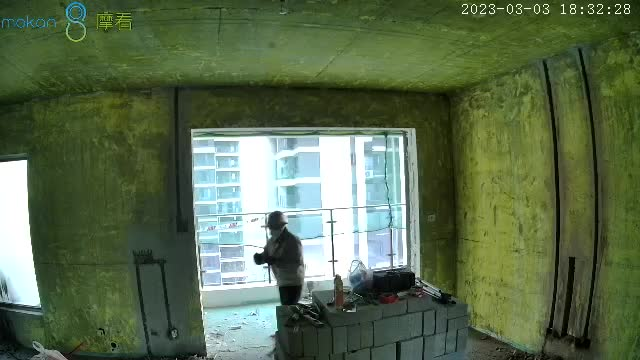people: (254, 211, 307, 304)
window: (192, 138, 411, 287), (1, 158, 43, 314)
